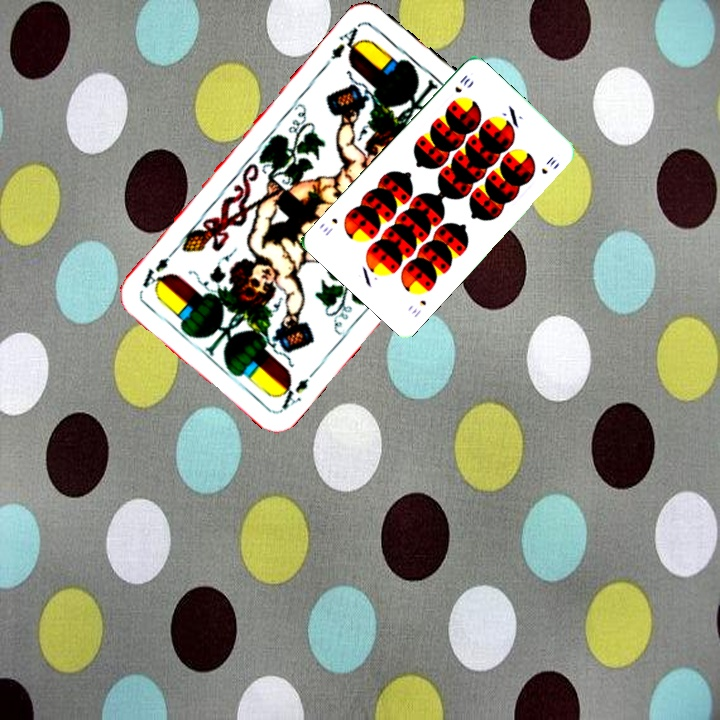EA: (273, 363, 321, 413), (326, 19, 368, 63)
S10: (451, 71, 473, 95), (407, 296, 429, 320)
